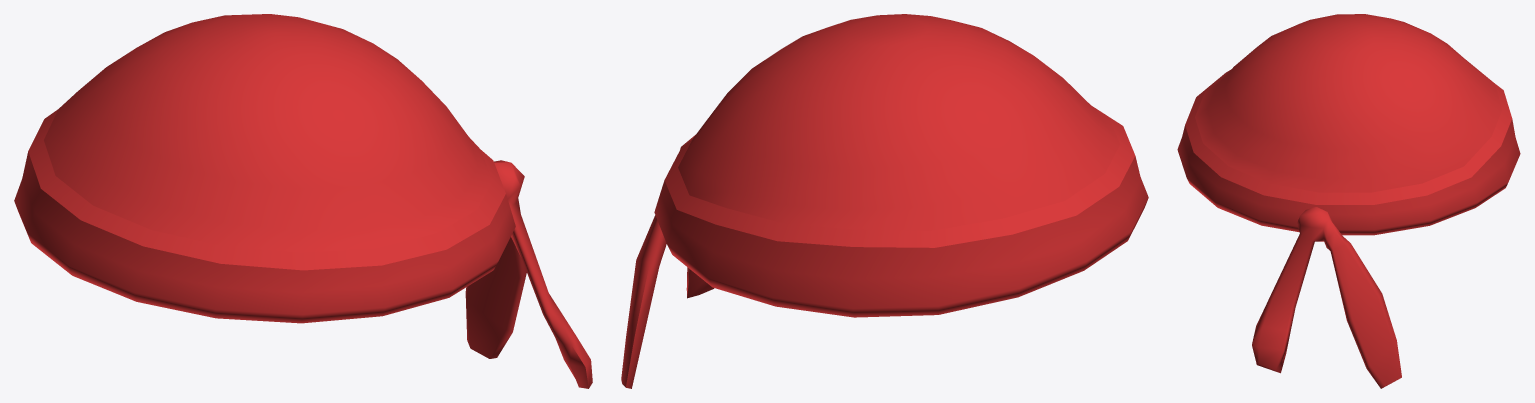
File: Hat_115_01.fbx
3 renders of one model, left to right at view 1: azimuth 30°, elevation 25°; view 2: azimuth 150°, elevation 25°; view 3: azimuth 270°, elevation 25°, orthographic. The views are drawn at different scales.
Parts seen in each view (by area): view 1: Hat_115_01; view 2: Hat_115_01; view 3: Hat_115_01.
Boxes of the visible parts, <box> form: Hat_115_01: <box>14,14,592,388</box>; Hat_115_01: <box>621,14,1148,388</box>; Hat_115_01: <box>1177,14,1520,388</box>.
Size of the model in its own units: 41.8 by 32.88 by 37.39.
